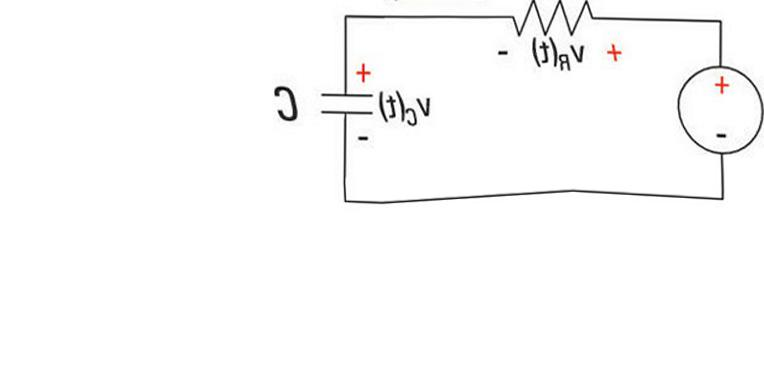Battery: (664, 46, 763, 170)
